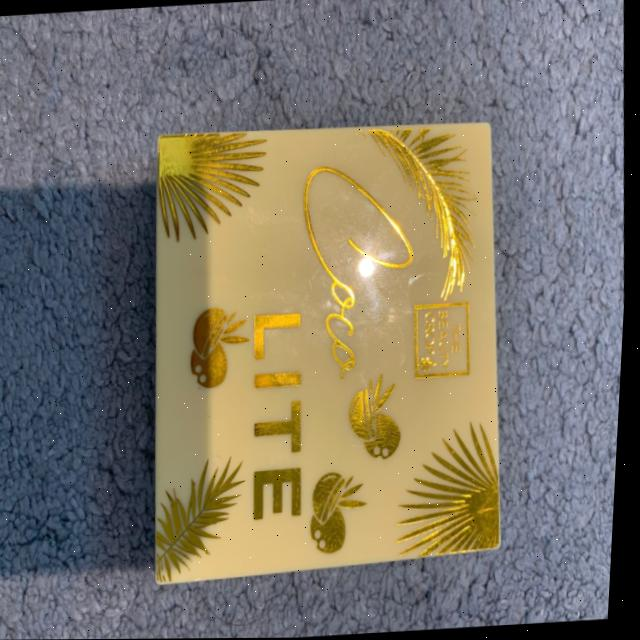makeup: (117, 79, 542, 599)
